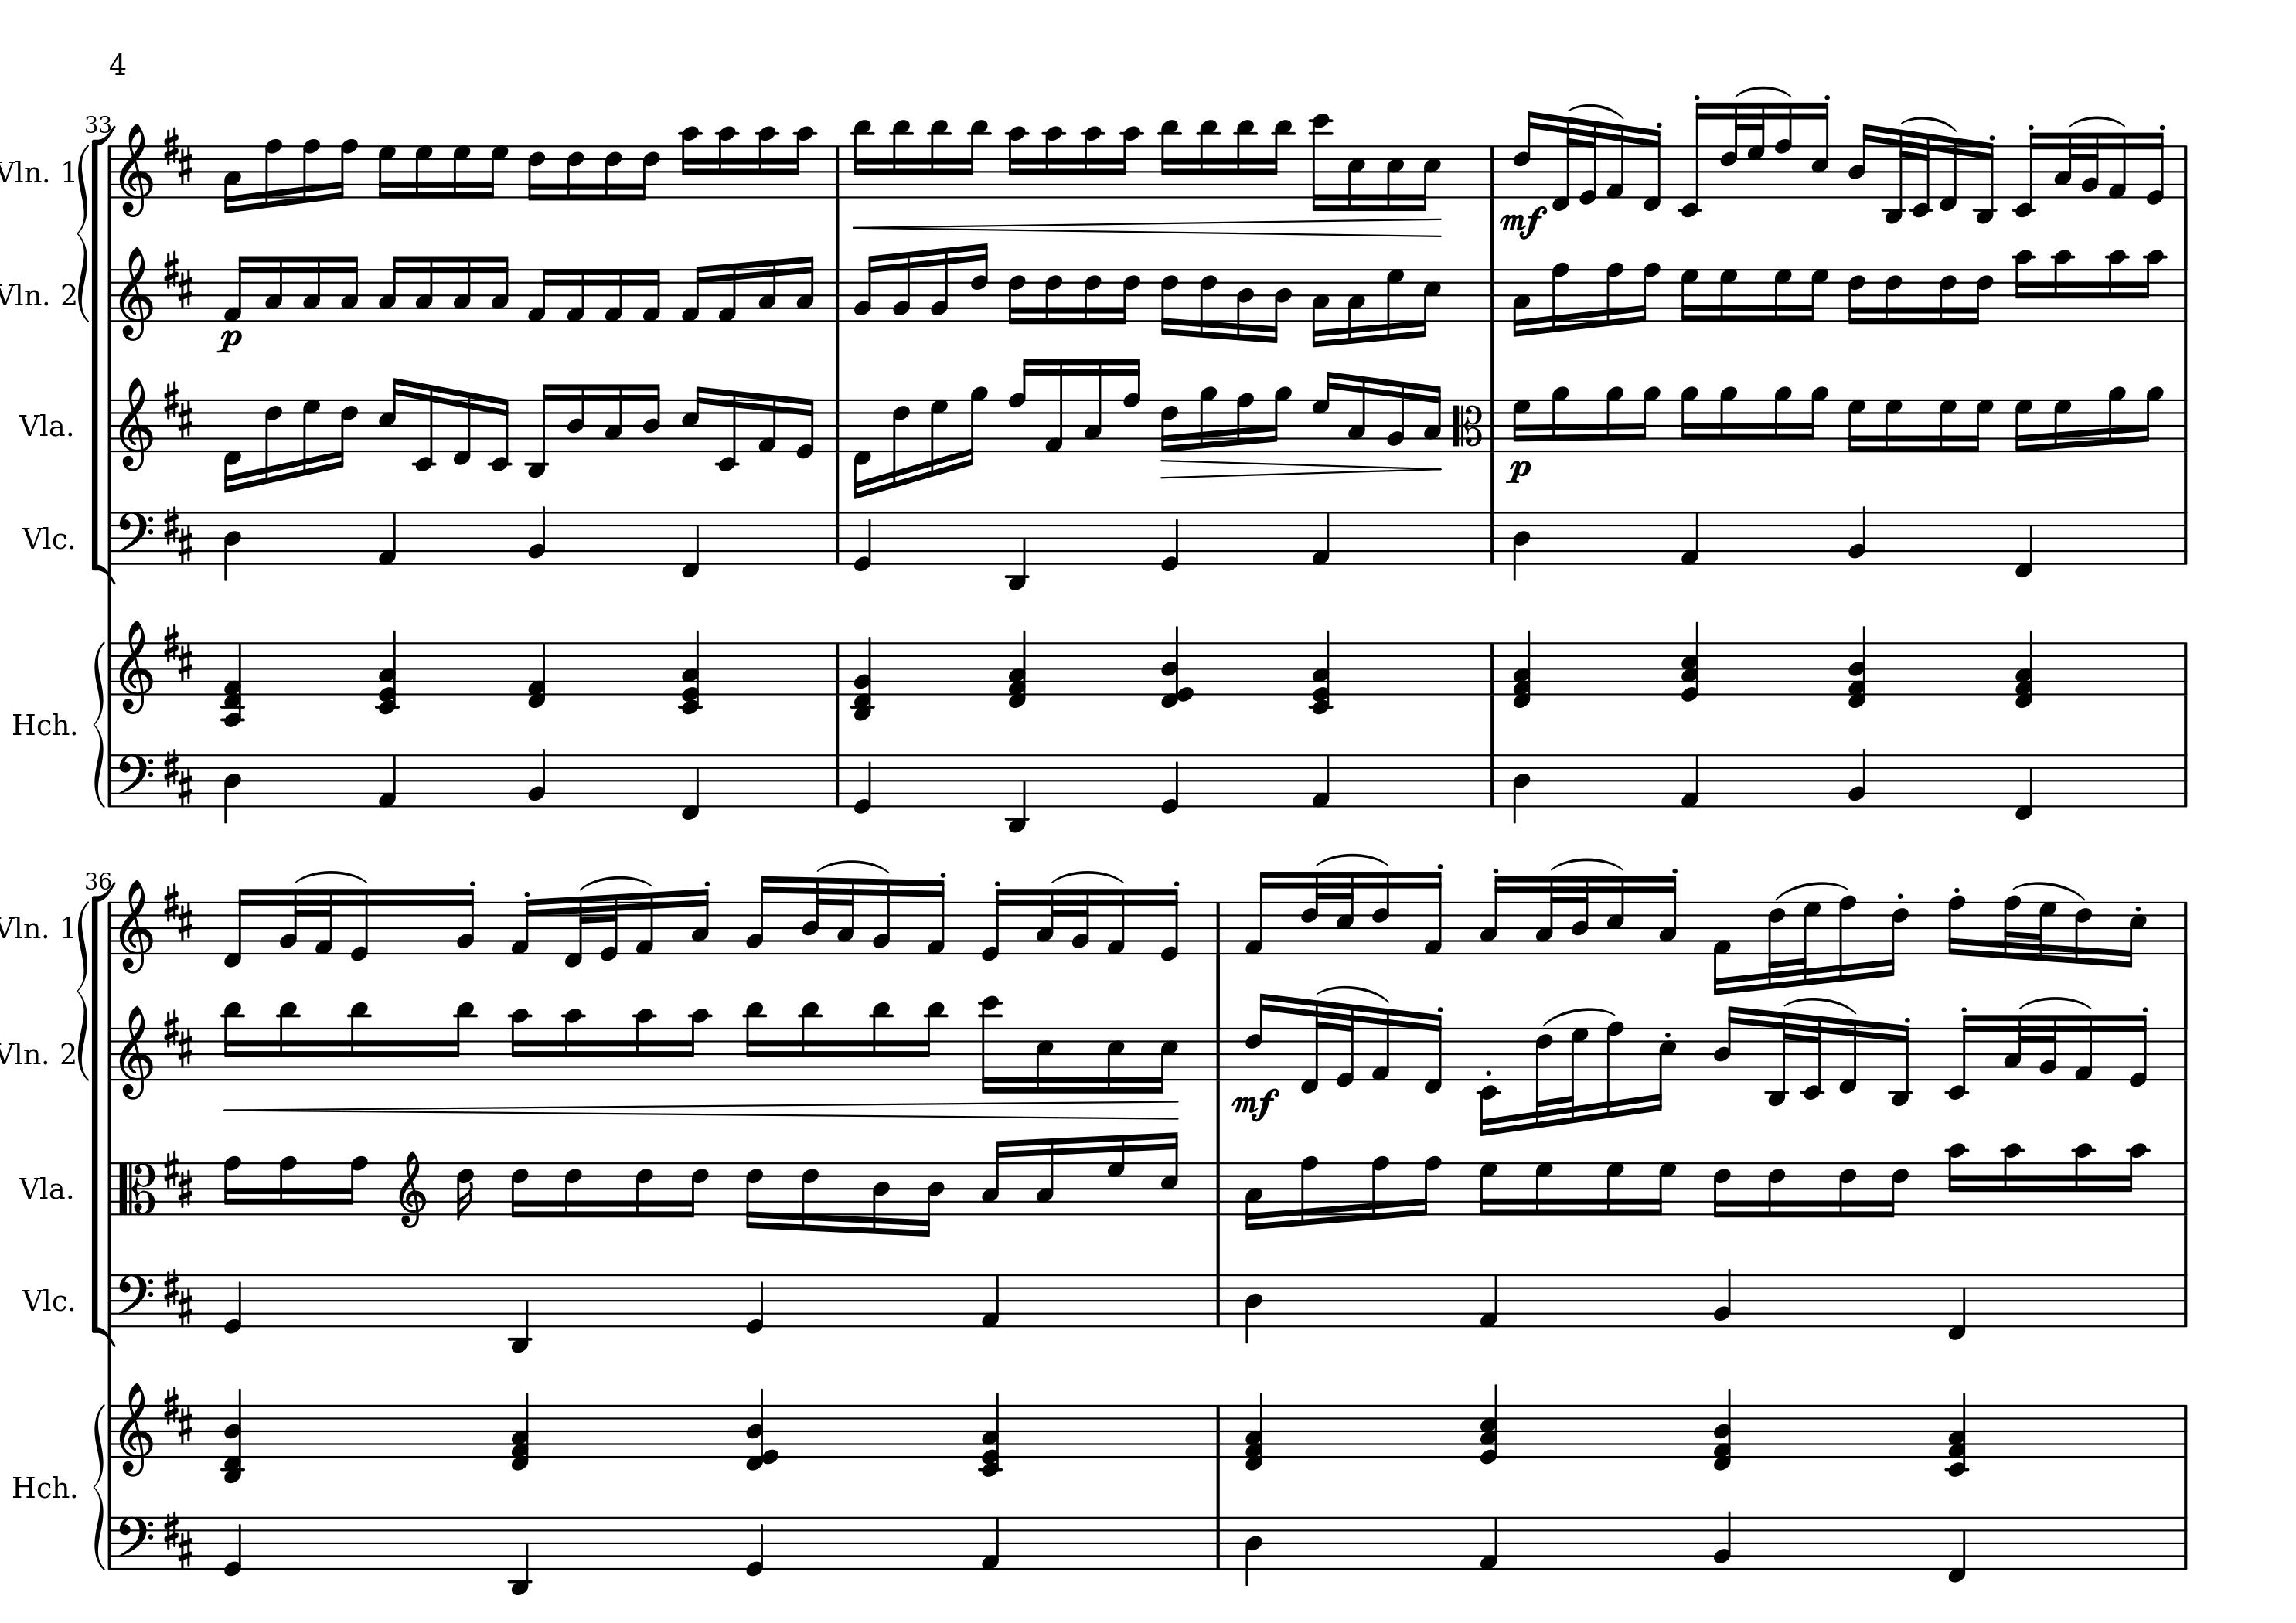16_-1: (223, 885, 249, 968), (223, 397, 242, 494), (852, 399, 871, 495), (1423, 1010, 1444, 1096), (1643, 125, 1662, 213), (1938, 133, 1959, 213), (451, 386, 473, 465), (1838, 1017, 1859, 1094)
16_-2: (1678, 98, 1708, 220), (1477, 1024, 1502, 1135), (2011, 128, 2040, 220), (1946, 1012, 1975, 1100), (413, 381, 436, 472), (488, 393, 511, 472), (717, 388, 738, 471)
16_-3: (525, 381, 553, 478), (1973, 137, 1996, 225), (1888, 1021, 1911, 1108)
16_0: (980, 885, 1008, 963), (1159, 887, 1180, 963), (2129, 1012, 2148, 1089), (2145, 130, 2164, 206), (350, 887, 369, 961), (794, 395, 815, 460)
16_1: (1244, 869, 1270, 956), (1043, 357, 1065, 453), (1713, 898, 1732, 994), (221, 253, 248, 323), (1423, 868, 1444, 956), (1370, 1005, 1391, 1082), (680, 263, 706, 323), (1606, 121, 1625, 200), (509, 896, 536, 954), (926, 878, 945, 956), (527, 267, 553, 323), (2073, 1012, 2094, 1082), (634, 889, 655, 956), (755, 392, 778, 453), (2108, 128, 2127, 200), (1107, 885, 1126, 956), (717, 260, 738, 323), (566, 267, 587, 323), (641, 267, 662, 323), (603, 267, 624, 321)
16_10: (791, 125, 817, 200), (683, 1006, 710, 1082), (2122, 1142, 2148, 1217), (1117, 125, 1144, 198), (678, 125, 703, 200), (715, 125, 740, 200), (1005, 125, 1029, 200), (2011, 248, 2036, 321), (2141, 249, 2166, 321), (755, 125, 778, 200), (1080, 125, 1103, 200), (508, 1006, 531, 1082), (632, 1006, 655, 1082), (1945, 1142, 1967, 1217), (2001, 1142, 2024, 1217), (1042, 125, 1065, 198), (2052, 248, 2075, 321), (562, 1006, 583, 1082), (2073, 1142, 2094, 1217), (2106, 248, 2127, 321)
16_11: (963, 118, 991, 200), (919, 999, 947, 1082), (1267, 118, 1295, 198), (450, 1001, 476, 1082), (850, 118, 875, 200), (889, 118, 913, 200), (926, 118, 950, 200), (1233, 118, 1258, 200), (741, 999, 766, 1082), (1196, 118, 1221, 198), (1158, 118, 1180, 200), (870, 999, 892, 1082), (276, 999, 299, 1080), (798, 999, 820, 1080), (221, 999, 242, 1080), (348, 999, 369, 1080)
16_12: (978, 994, 1003, 1096), (1309, 112, 1333, 213)
16_2: (745, 873, 771, 954), (852, 253, 878, 323), (929, 244, 950, 321), (891, 249, 912, 321), (871, 876, 891, 954), (1386, 378, 1405, 453), (457, 887, 476, 956)
16_3: (980, 1138, 1008, 1215), (1479, 875, 1505, 954), (1082, 355, 1103, 451), (376, 253, 402, 321), (1035, 1135, 1056, 1217), (1346, 267, 1367, 344), (1346, 374, 1367, 451), (1310, 267, 1330, 348), (1658, 873, 1678, 954), (603, 381, 624, 453), (1421, 381, 1442, 453), (264, 253, 285, 321), (413, 253, 434, 321), (451, 253, 473, 321), (794, 255, 815, 323), (221, 142, 241, 213), (1511, 267, 1530, 337), (1244, 1159, 1263, 1230), (302, 253, 321, 321), (339, 253, 358, 321), (490, 253, 509, 321), (690, 887, 710, 954), (757, 258, 776, 321)
16_4: (1846, 121, 1873, 200), (1267, 267, 1293, 344), (921, 1159, 945, 1237), (1713, 1005, 1737, 1080), (641, 381, 662, 453), (871, 1159, 891, 1237), (1235, 267, 1254, 343), (566, 383, 587, 451)
16_5: (1651, 1024, 1678, 1112), (1809, 98, 1830, 198), (378, 374, 402, 451), (1418, 267, 1442, 339), (1154, 1024, 1179, 1094), (680, 383, 704, 451), (1159, 1129, 1179, 1215), (2122, 901, 2147, 968), (1418, 142, 1440, 213), (1606, 873, 1625, 954), (1035, 1024, 1056, 1096), (1346, 142, 1367, 213), (1386, 142, 1404, 213), (1107, 1026, 1124, 1094)
16_6: (1244, 991, 1270, 1080), (1513, 109, 1537, 200), (1883, 899, 1910, 978), (330, 397, 358, 471), (968, 241, 991, 321), (1370, 869, 1391, 954), (891, 397, 910, 488), (264, 397, 283, 485), (634, 142, 661, 202), (1883, 1159, 1910, 1219), (1114, 267, 1140, 325), (1967, 267, 1994, 325), (683, 1159, 710, 1217), (1198, 265, 1217, 339), (799, 1159, 819, 1231), (1159, 265, 1179, 335), (745, 1159, 764, 1230), (455, 1159, 476, 1221), (525, 142, 546, 202), (603, 142, 624, 202), (1043, 265, 1065, 325), (1082, 265, 1103, 325), (562, 1159, 583, 1219), (2073, 899, 2092, 964), (566, 142, 585, 202), (1846, 265, 1866, 325), (1883, 265, 1903, 325), (1938, 265, 1957, 325), (509, 1159, 529, 1219), (1713, 1159, 1732, 1219), (1007, 267, 1026, 325), (1159, 397, 1179, 455), (634, 1159, 653, 1217), (1767, 1159, 1787, 1217), (1838, 1159, 1857, 1217)
16_7: (1310, 367, 1335, 451), (1105, 1131, 1128, 1215), (300, 397, 321, 476), (928, 397, 949, 476), (1384, 265, 1405, 341), (483, 142, 509, 200), (1651, 1159, 1678, 1217), (1967, 397, 1994, 453), (1804, 267, 1829, 323), (1477, 1159, 1498, 1217), (1534, 1159, 1555, 1217), (1604, 1159, 1625, 1217), (1718, 267, 1739, 323), (1773, 267, 1794, 323), (1511, 397, 1532, 451), (376, 142, 395, 200), (413, 142, 432, 200), (451, 142, 471, 200), (1679, 267, 1699, 323), (1846, 397, 1866, 453), (1883, 397, 1903, 453), (1938, 397, 1957, 453), (2013, 397, 2032, 453), (2052, 397, 2071, 451)
16_8: (1007, 357, 1033, 453), (1606, 1019, 1625, 1119), (1774, 100, 1794, 198), (1123, 357, 1142, 453), (1838, 894, 1857, 982), (334, 137, 358, 200), (1635, 260, 1660, 323), (1416, 1154, 1440, 1217), (343, 1154, 367, 1215), (1549, 260, 1569, 334), (300, 137, 321, 204), (264, 137, 283, 209), (1300, 1154, 1318, 1228), (1370, 1154, 1390, 1221), (1606, 260, 1625, 325), (1946, 894, 1966, 956), (221, 1154, 241, 1215), (278, 1154, 297, 1215), (1235, 392, 1254, 451)
16_9: (961, 383, 987, 469), (1804, 385, 1829, 453), (2138, 383, 2162, 451), (1267, 385, 1291, 451), (1637, 385, 1662, 451), (1604, 385, 1625, 453), (1549, 383, 1569, 453), (1773, 385, 1792, 453), (2106, 383, 2126, 451), (1198, 385, 1217, 451), (1679, 385, 1699, 451), (1718, 385, 1737, 451)
3: (98, 869, 114, 889), (98, 112, 112, 133), (84, 112, 97, 133), (84, 869, 97, 889)
32_-1: (1300, 996, 1325, 1093), (1551, 112, 1574, 211), (562, 894, 587, 968)
32_-2: (1801, 1012, 1823, 1100), (1910, 130, 1931, 218)
32_-3: (1765, 1008, 1792, 1108), (1883, 126, 1908, 225)
32_0: (1578, 116, 1599, 206), (1335, 1001, 1354, 1087), (599, 892, 618, 961)
32_1: (313, 887, 334, 956)
32_2: (278, 887, 304, 954), (2080, 130, 2101, 198), (1072, 887, 1091, 956), (2040, 1012, 2059, 1078)
32_3: (1534, 873, 1560, 954), (1035, 887, 1061, 954), (2003, 1012, 2027, 1080), (2052, 130, 2075, 198), (836, 876, 856, 956)
32_4: (799, 875, 826, 956), (1570, 875, 1590, 956)
32_5: (1335, 869, 1356, 956)
32_6: (1718, 100, 1743, 198), (1534, 1026, 1555, 1128), (1300, 869, 1325, 956), (1767, 899, 1787, 991)
32_7: (1562, 1026, 1590, 1126), (1795, 899, 1822, 985), (1746, 100, 1765, 198), (2032, 899, 2057, 961)
32_8: (2003, 894, 2022, 959)
4: (109, 49, 128, 76)
4_-1: (680, 752, 703, 820), (680, 509, 701, 578), (2013, 509, 2034, 576), (1948, 1272, 1967, 1340), (1948, 1514, 1967, 1583), (2015, 752, 2034, 819)
4_-3: (1005, 509, 1028, 592), (1007, 750, 1028, 833), (509, 1270, 531, 1353), (509, 1514, 531, 1595)
4_0: (852, 509, 873, 573), (223, 1514, 244, 1577), (852, 752, 873, 813), (1159, 752, 1180, 813), (745, 1272, 766, 1333), (747, 1514, 766, 1577), (1161, 509, 1180, 571), (223, 1272, 242, 1333)
4_1: (1310, 509, 1332, 566), (1479, 1514, 1500, 1570), (1681, 509, 1702, 564), (1310, 754, 1332, 808), (1681, 754, 1702, 808), (980, 1273, 1001, 1328), (980, 1516, 1001, 1570), (1479, 1273, 1500, 1326), (378, 511, 397, 566), (378, 754, 397, 808)
4_2: (1848, 502, 1869, 566), (1848, 747, 1869, 808), (529, 504, 548, 566), (529, 747, 548, 808), (1715, 1266, 1734, 1328), (1715, 1509, 1734, 1570)
4_4: (221, 509, 242, 581), (1511, 752, 1532, 824), (1244, 1272, 1265, 1342), (223, 752, 242, 824), (1244, 1514, 1263, 1586), (1513, 509, 1530, 580)
4_th: (223, 1386, 246, 1481), (221, 639, 246, 727), (1945, 1391, 1969, 1477), (678, 629, 703, 713), (1309, 629, 1333, 713), (850, 636, 875, 720), (376, 629, 399, 715), (1711, 1386, 1734, 1472), (978, 1391, 1001, 1477), (1477, 1382, 1500, 1463), (1846, 625, 1867, 710), (1679, 622, 1700, 703), (509, 1391, 531, 1472), (1007, 629, 1028, 708), (1511, 629, 1532, 708), (1244, 1391, 1265, 1470), (2013, 631, 2032, 708)
Brace: (76, 898, 90, 1078), (91, 638, 105, 806), (91, 1402, 105, 1570), (76, 144, 88, 320)
Bracke: (88, 882, 116, 1347), (90, 128, 116, 587)
Cclef: (116, 1159, 155, 1215), (1449, 399, 1484, 451)
Crescendo_hairpin: (223, 1101, 1179, 1121), (852, 216, 1442, 237)
D_S: (162, 125, 193, 184), (162, 248, 193, 307), (162, 378, 193, 437), (162, 502, 193, 562), (162, 622, 193, 682), (162, 1006, 193, 1066), (162, 1149, 193, 1208), (162, 747, 193, 804), (162, 882, 193, 940), (162, 1266, 193, 1324), (162, 1384, 193, 1442), (162, 1509, 193, 1567)
Diminuendo_hairpin: (1159, 460, 1440, 480)
Fclef: (116, 509, 155, 566), (116, 1514, 155, 1570), (116, 752, 155, 806), (116, 1272, 155, 1326)
Gclef: (118, 244, 155, 341), (118, 1381, 155, 1477), (118, 376, 155, 471), (118, 878, 155, 973), (118, 618, 153, 715), (118, 1003, 153, 1100), (118, 123, 153, 218), (399, 1149, 427, 1228)
Hch: (9, 1470, 69, 1504), (9, 708, 70, 738)
Single_barline: (1484, 511, 1500, 564), (2177, 511, 2192, 564), (1210, 901, 1226, 954), (1210, 1028, 1226, 1080), (2177, 1028, 2192, 1080), (1210, 1161, 1226, 1214), (2177, 1161, 2192, 1214), (1210, 1273, 1226, 1326), (1210, 1403, 1226, 1456), (2177, 1403, 2192, 1456), (1484, 643, 1500, 694), (1484, 754, 1500, 804), (2177, 754, 2192, 804), (2177, 1275, 2192, 1326), (1210, 1516, 1226, 1567), (2177, 1518, 2192, 1569), (2178, 144, 2192, 198), (831, 267, 845, 321), (1486, 269, 1500, 321), (2178, 269, 2192, 321), (2178, 399, 2192, 451), (831, 641, 845, 694), (2178, 641, 2192, 694), (104, 901, 118, 954), (831, 146, 845, 197), (1484, 399, 1498, 450), (831, 511, 845, 562), (831, 754, 845, 804), (2178, 901, 2192, 952), (104, 511, 116, 566), (831, 399, 843, 451), (104, 1028, 116, 1080), (104, 1161, 116, 1214), (104, 146, 116, 197), (1486, 146, 1498, 197), (104, 269, 116, 320), (104, 399, 116, 450), (105, 754, 118, 804), (104, 1275, 116, 1326), (105, 641, 116, 694), (105, 1403, 116, 1456), (105, 1516, 116, 1569)
Slur: (2010, 882, 2087, 901), (1541, 1006, 1616, 1026), (1783, 996, 1859, 1015), (1774, 880, 1848, 899), (1314, 985, 1391, 1003), (576, 875, 655, 891), (813, 859, 891, 873), (1314, 852, 1390, 866), (293, 869, 369, 884), (1051, 869, 1124, 884), (2018, 996, 2092, 1010), (1901, 114, 1959, 132), (1548, 857, 1627, 869), (1567, 102, 1625, 118), (2068, 114, 2127, 128), (1734, 84, 1792, 97)
Vla: (19, 1172, 67, 1205)
Vlc: (21, 1282, 69, 1317), (21, 522, 67, 553)
Vln: (18, 409, 67, 441), (0, 1036, 40, 1070), (0, 156, 42, 188), (0, 278, 42, 309), (0, 912, 39, 941)
mf: (1231, 1087, 1279, 1124), (1498, 206, 1548, 241)
p: (1509, 432, 1530, 480), (214, 328, 242, 357), (1505, 457, 1534, 483)
